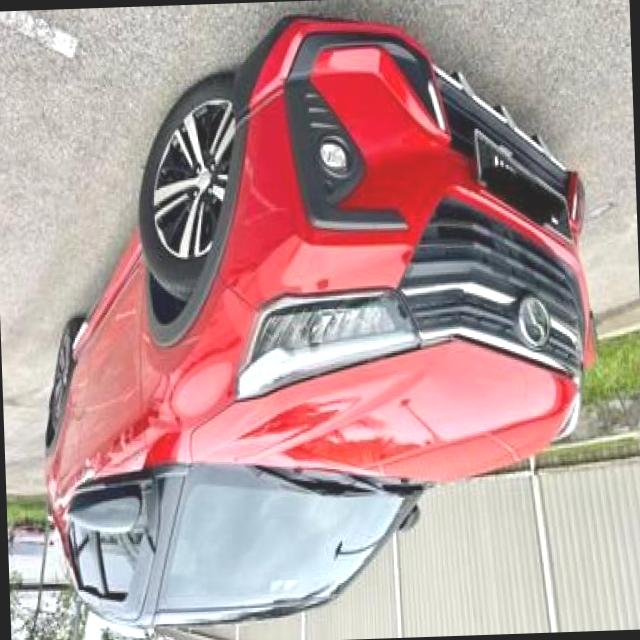PeroduaAtiva: (26, 6, 606, 634)
